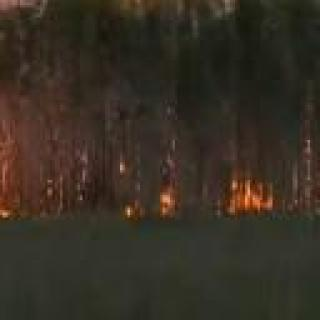fire: (124, 178, 176, 220), (228, 182, 270, 208)
